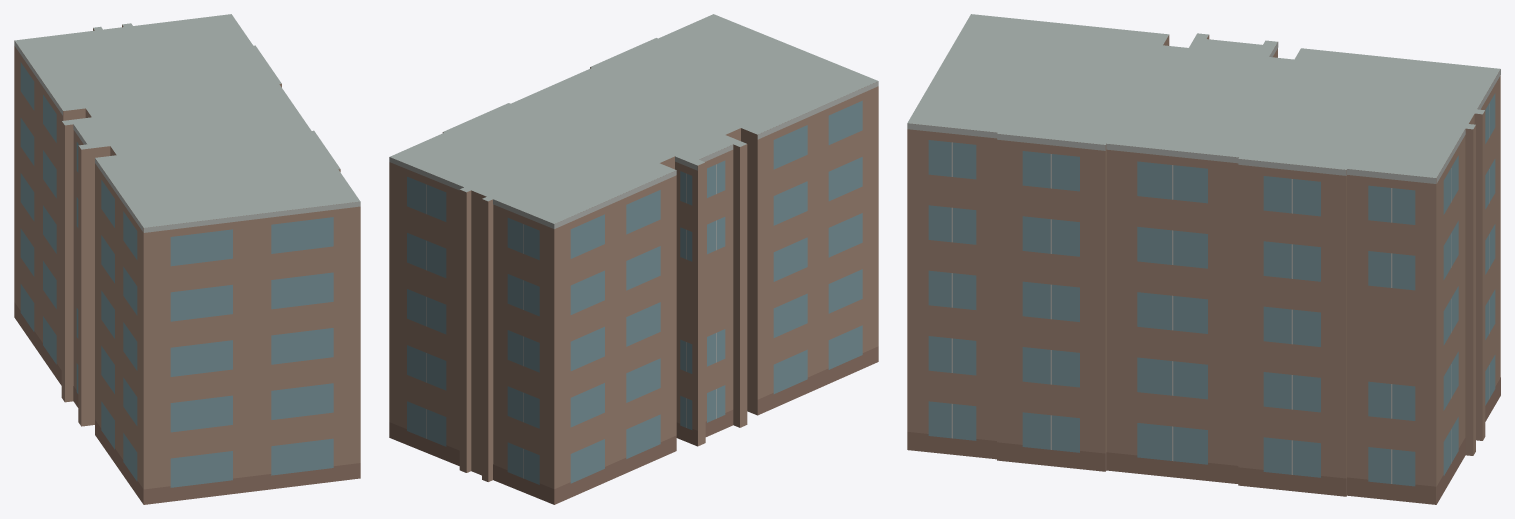
The model's file is survey-upis-32873132.glb.
3 renders of one model, left to right at view 1: azimuth 30°, elevation 25°; view 2: azimuth 150°, elevation 25°; view 3: azimuth 270°, elevation 25°, orthographic. The views are drawn at different scales.
Visible parts, largest first — view 1: survey-upis-32873132.tmp; view 2: survey-upis-32873132.tmp; view 3: survey-upis-32873132.tmp.
Part boxes in pixels (x1=…): survey-upis-32873132.tmp: x1=14, y1=14, x2=360, y2=504; survey-upis-32873132.tmp: x1=389, y1=14, x2=878, y2=504; survey-upis-32873132.tmp: x1=907, y1=14, x2=1500, y2=504.
Bounding box in the file's own units: 14.45 × 13.4 × 22.07.
